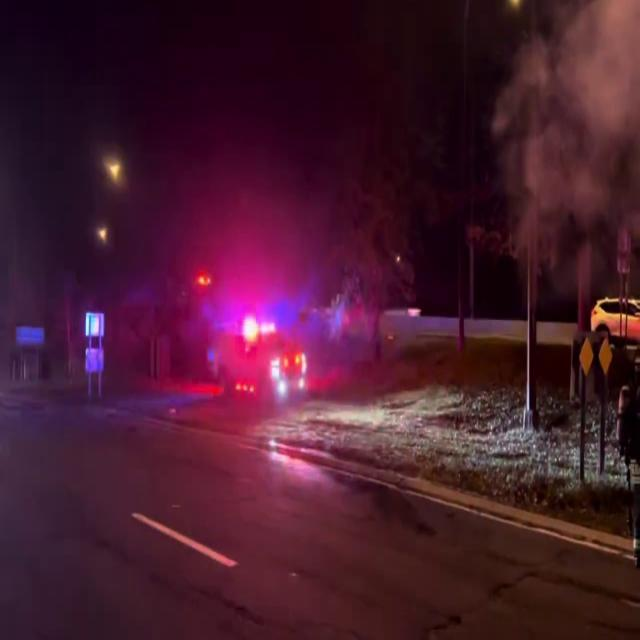Smoke: (483, 0, 640, 259)
